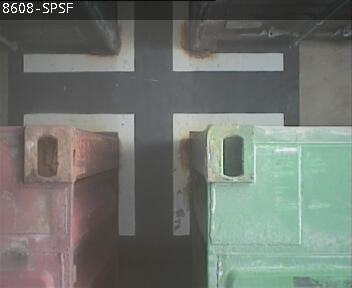groundmarker_1: (21, 112, 284, 235), (21, 1, 282, 70)
